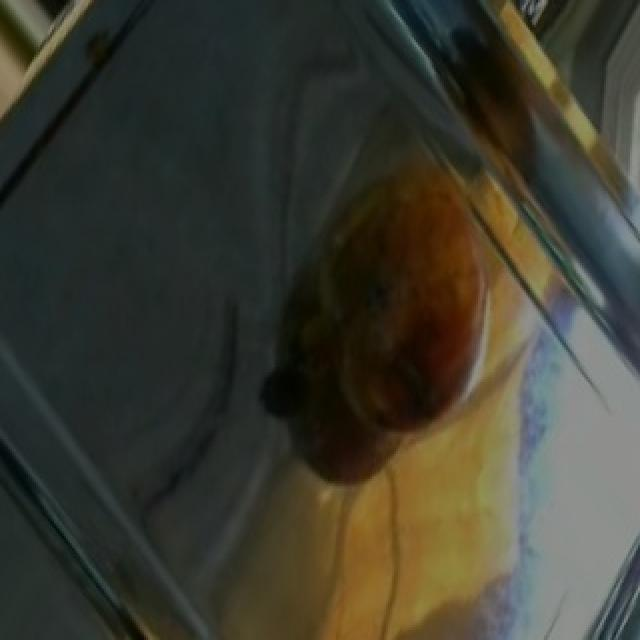fruit: (312, 201, 524, 469)
